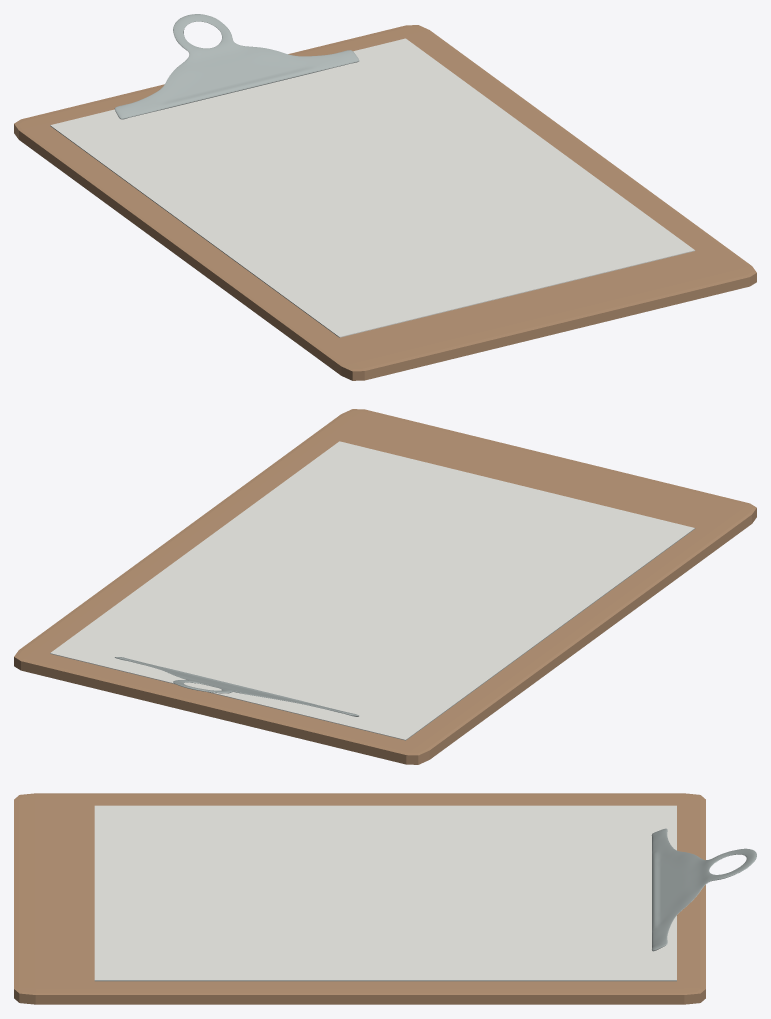
File: Clipboard.fbx
3 views of the same model, one above another, from view 1: azimuth 30°, elevation 25°; view 2: azimuth 150°, elevation 25°; view 3: azimuth 270°, elevation 25° (orthographic).
Parts seen in each view (by area): view 1: Board; view 2: Board; view 3: Board.
Boxes of the visible parts, x1,y1,x2,y2 form: Board: (14,14,756,380); Board: (14,409,756,764); Board: (14,793,756,1004).
Bounding box in the file's own units: 200 × 22.67 × 311.
